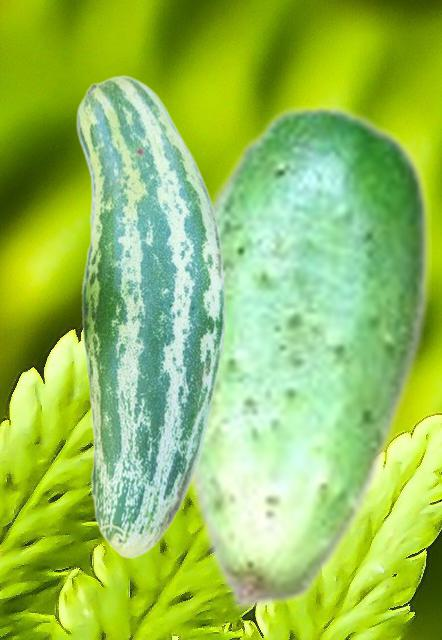cucumber: (184, 101, 430, 611), (75, 74, 225, 558)
